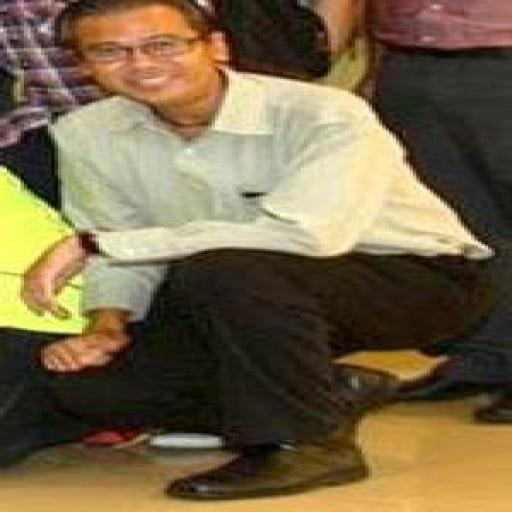person: (24, 0, 491, 499), (362, 0, 511, 422), (0, 0, 102, 206)
